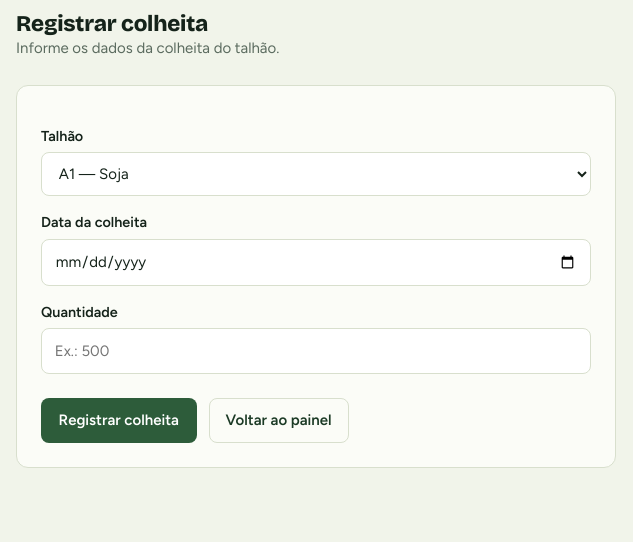
Test: RegistrarColheita - UI03 › registra uma colheita com dados válidos
Expected: the dropdown labelled "Talhão" is shown, [41,152,591,196]
Type "2026-11-26" into the date field labelled "Data da colheita" at (316, 262), box [41,239,591,286]
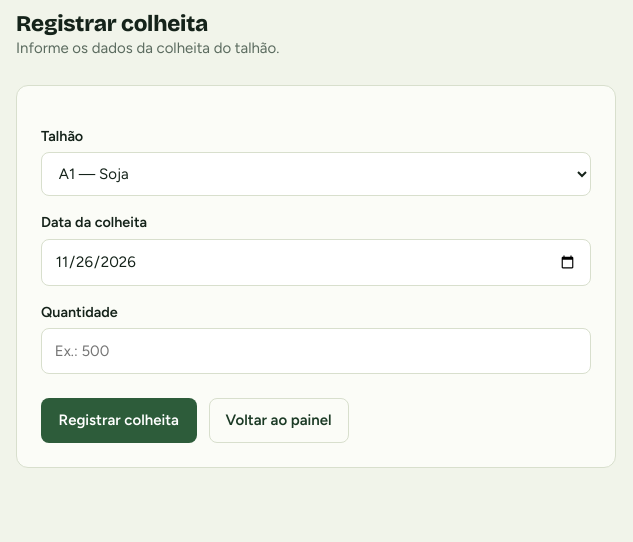
Type "500" into the number field labelled "Quantidade" at (316, 351), box [41,328,591,374]
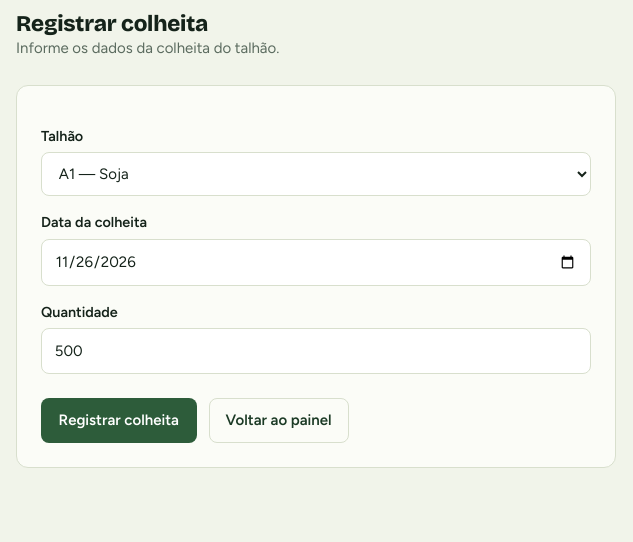
Click the button "Registrar colheita" at (119, 420), box [41,398,196,443]
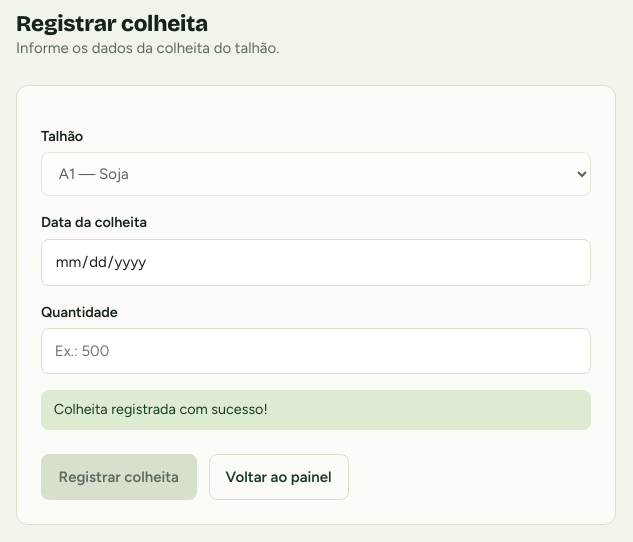
Now the text "Colheita registrada com sucesso!" is shown, box [41,390,591,430]
